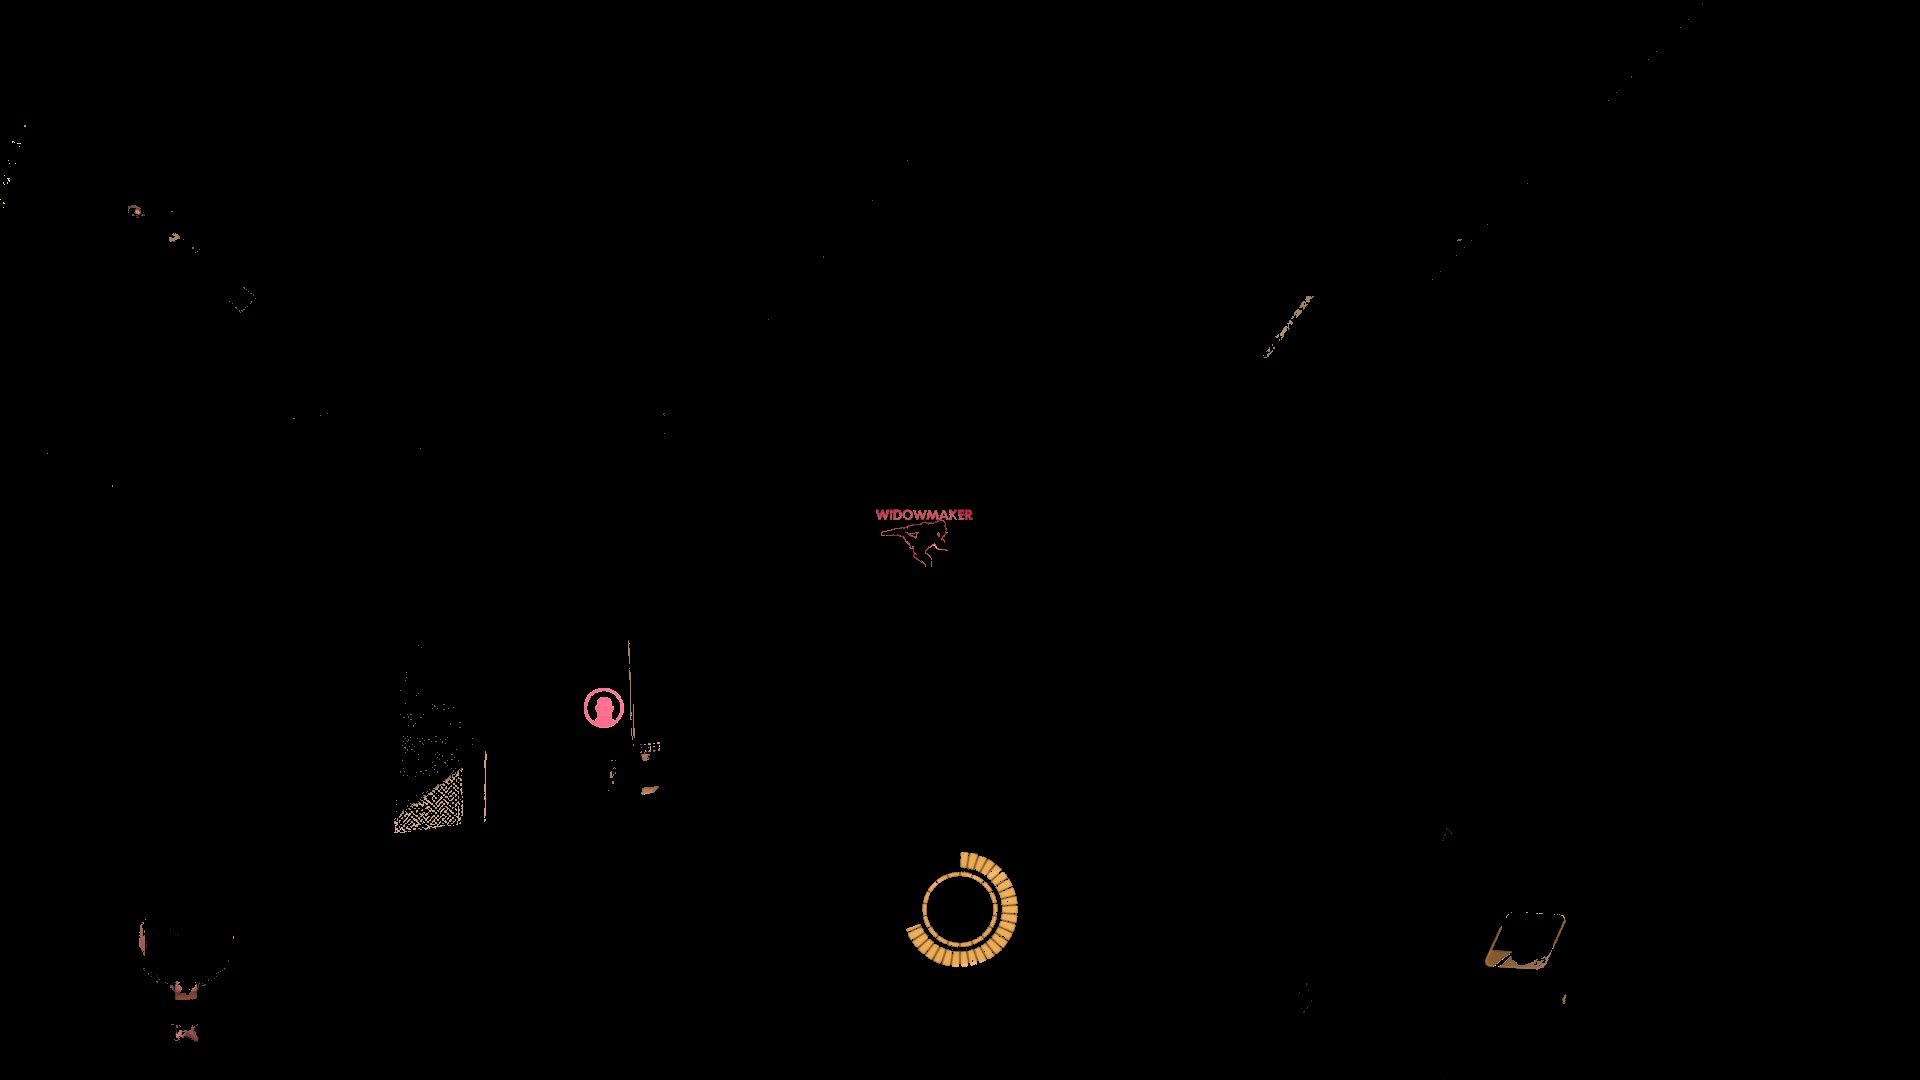widowmaker: (880, 520, 951, 574)
